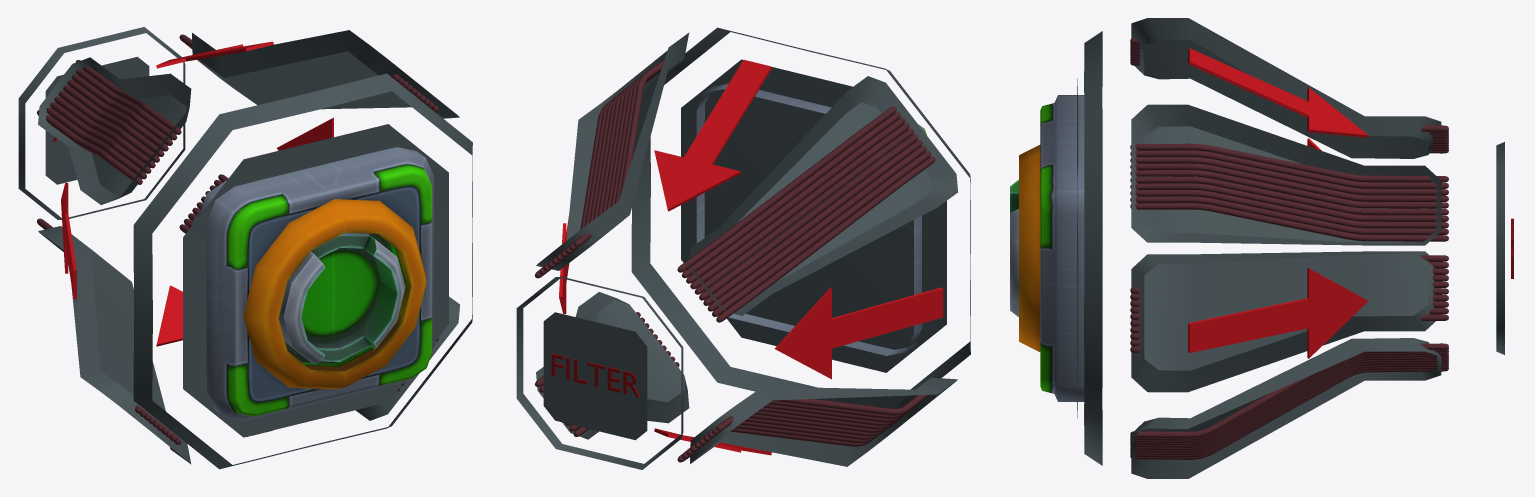
Rendered from fant_teleport_pipe_out.obj.
3 views of the same model, side by side, from view 1: azimuth 30°, elevation 25°; view 2: azimuth 150°, elevation 25°; view 3: azimuth 270°, elevation 25° (orthographic).
Parts seen in each view (by area): view 1: Fant_Teleport_Pipe_Out_Cube.004; view 2: Fant_Teleport_Pipe_Out_Cube.004; view 3: Fant_Teleport_Pipe_Out_Cube.004.
Part boxes in pixels (x1,y1,x2,y2): Fant_Teleport_Pipe_Out_Cube.004: [18, 27, 472, 469]; Fant_Teleport_Pipe_Out_Cube.004: [516, 27, 970, 469]; Fant_Teleport_Pipe_Out_Cube.004: [1010, 18, 1513, 478].
Bounding box in the file's own units: 3.04 × 3.04 × 3.63.
